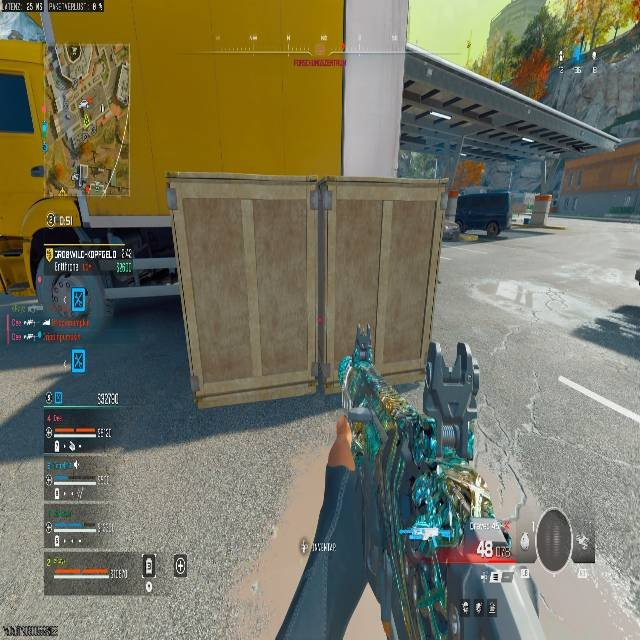player: (351, 321, 373, 363)
